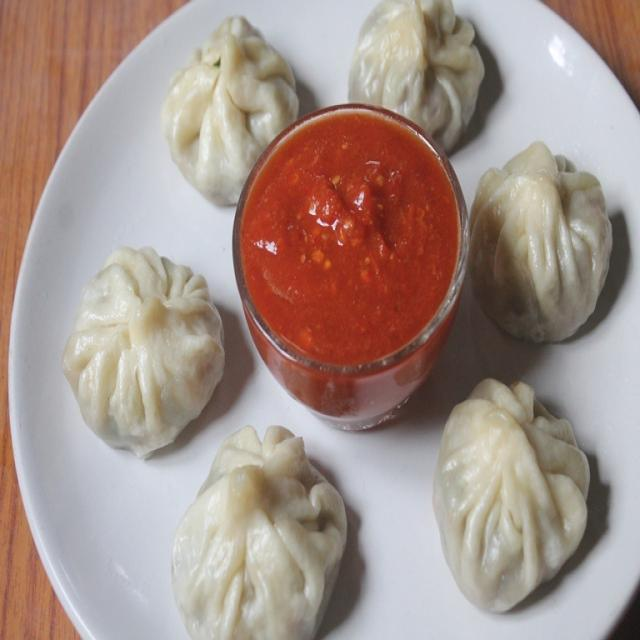momos: (157, 428, 356, 638), (430, 378, 608, 588), (68, 222, 224, 450), (468, 161, 618, 330), (152, 10, 286, 190)
